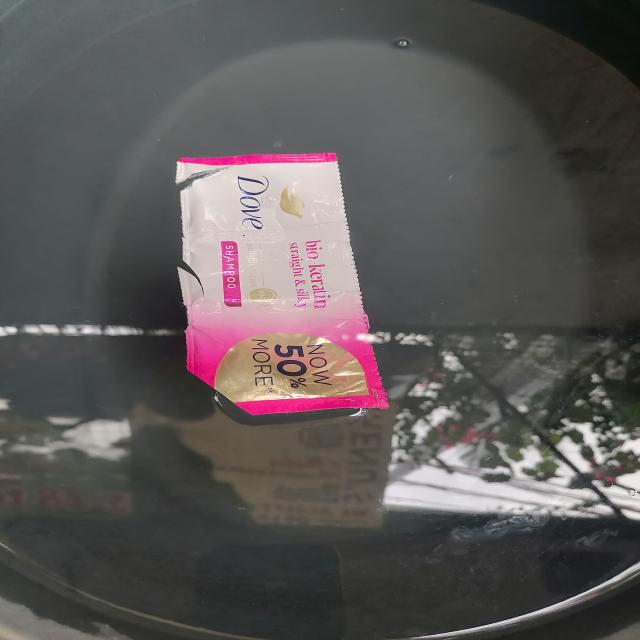Plastic Wrapper: (176, 153, 387, 422)
